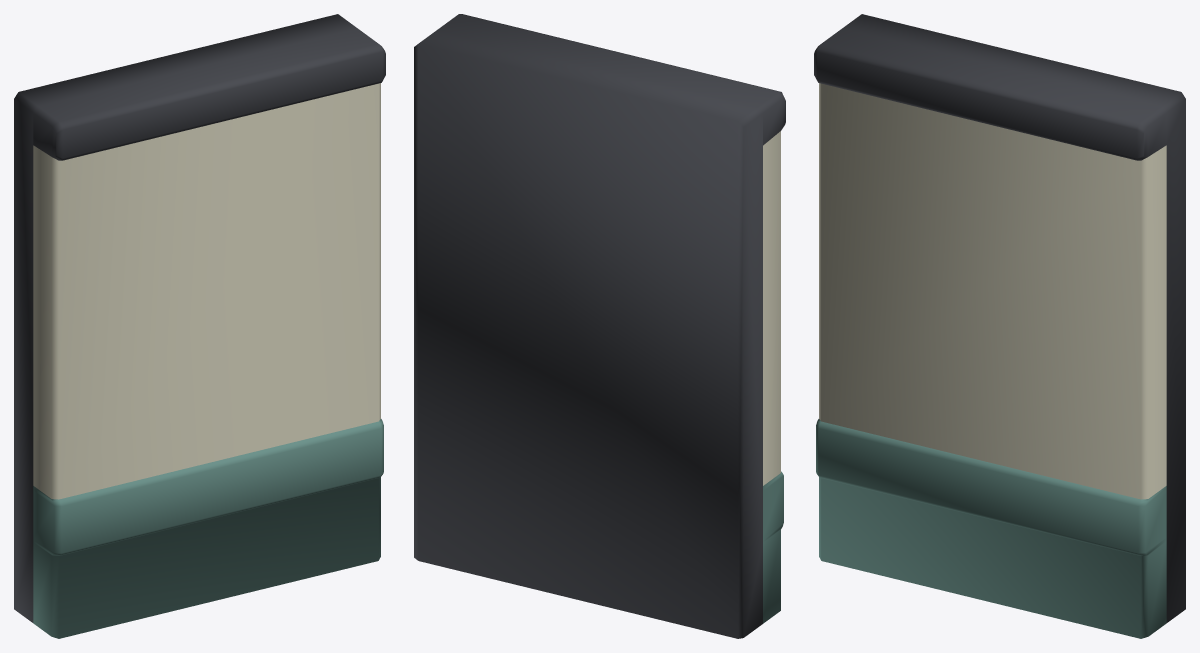
Rendered from MDL_Env_wall.fbx.
3 renders of one model, left to right at view 1: azimuth 30°, elevation 25°; view 2: azimuth 150°, elevation 25°; view 3: azimuth 330°, elevation 25°, orthographic.
Parts seen in each view (by area): view 1: mesh_wall; view 2: mesh_wall; view 3: mesh_wall.
Boxes of the visible parts, bbox=[...] form: mesh_wall: bbox=[14, 14, 385, 638]; mesh_wall: bbox=[414, 14, 785, 638]; mesh_wall: bbox=[814, 14, 1185, 638].
Size of the model in its own units: 160 by 240 by 37.49.
Materials: 1 (1 with a texture image).
